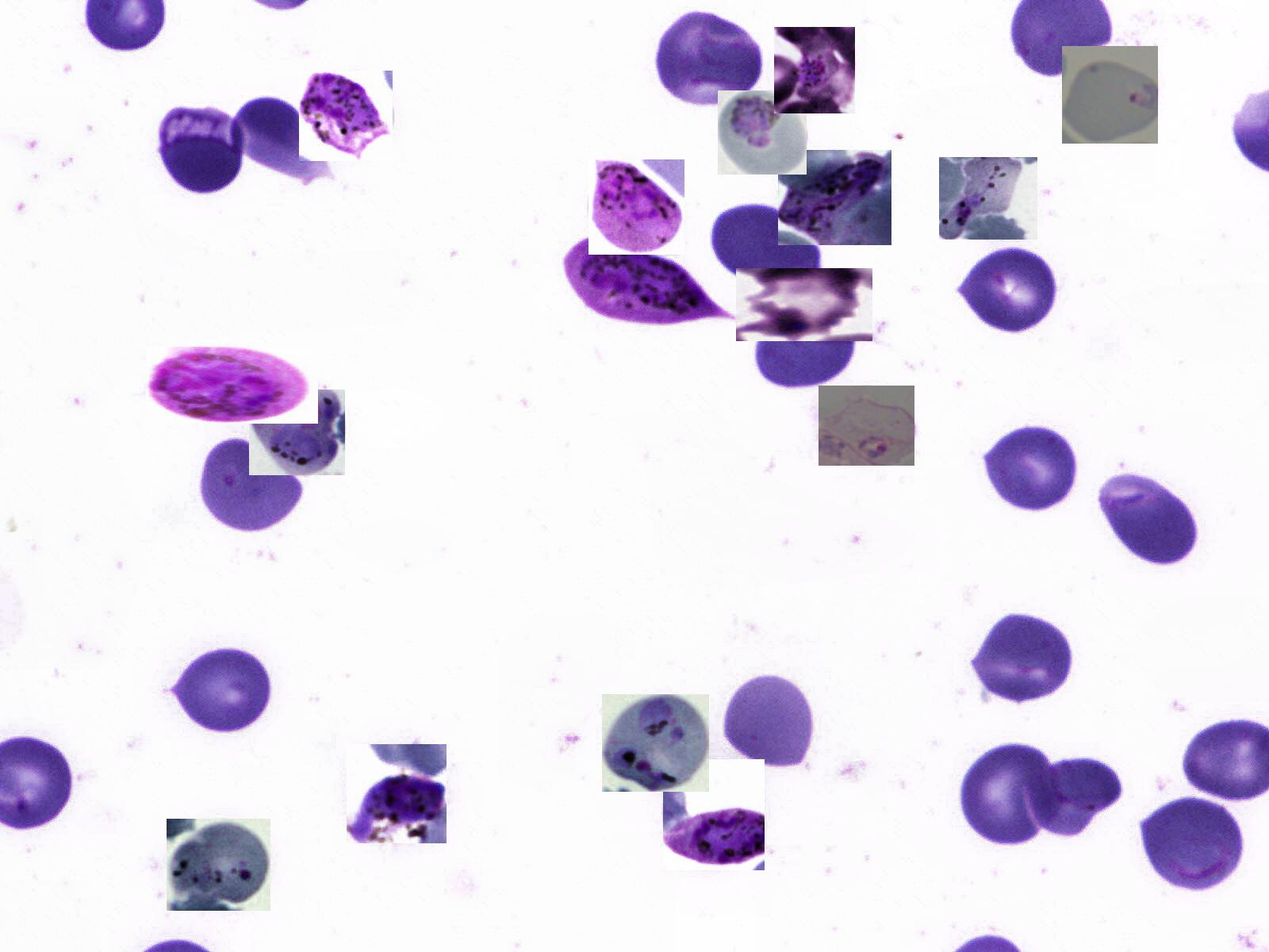Infected: (559, 235, 746, 334), (146, 347, 318, 424), (663, 759, 765, 870), (778, 150, 891, 245), (602, 694, 709, 792), (736, 268, 872, 341), (347, 744, 447, 843), (167, 819, 270, 911), (1062, 46, 1158, 144), (588, 159, 684, 255), (299, 71, 393, 161), (249, 390, 345, 475), (939, 157, 1037, 240), (819, 386, 914, 466), (719, 90, 807, 175), (774, 27, 855, 113)
Uninfected: (958, 740, 1064, 847), (199, 436, 307, 539), (654, 8, 765, 107), (966, 610, 1077, 709), (1137, 792, 1244, 892), (1095, 470, 1200, 570), (169, 643, 274, 736), (709, 202, 826, 282), (953, 248, 1058, 337), (751, 305, 859, 391), (723, 667, 813, 769), (232, 94, 335, 182), (155, 100, 247, 198), (980, 424, 1075, 516), (1026, 751, 1123, 840)
